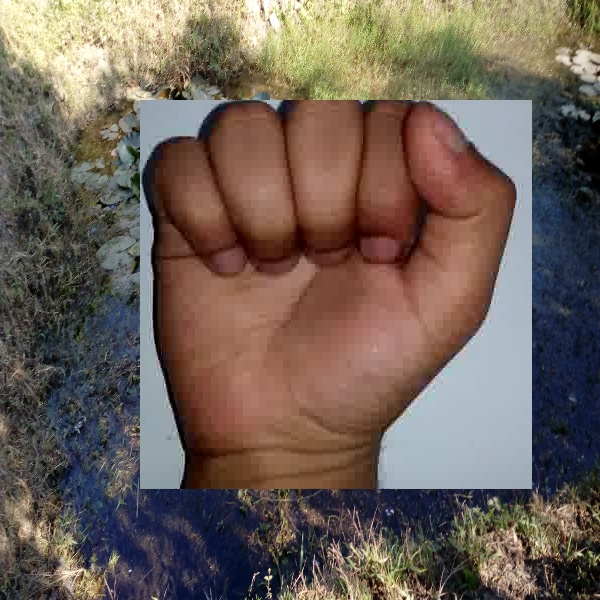A: (140, 100, 532, 489)
